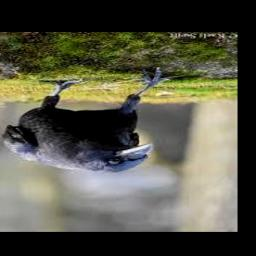Crow: (1, 67, 179, 172)
